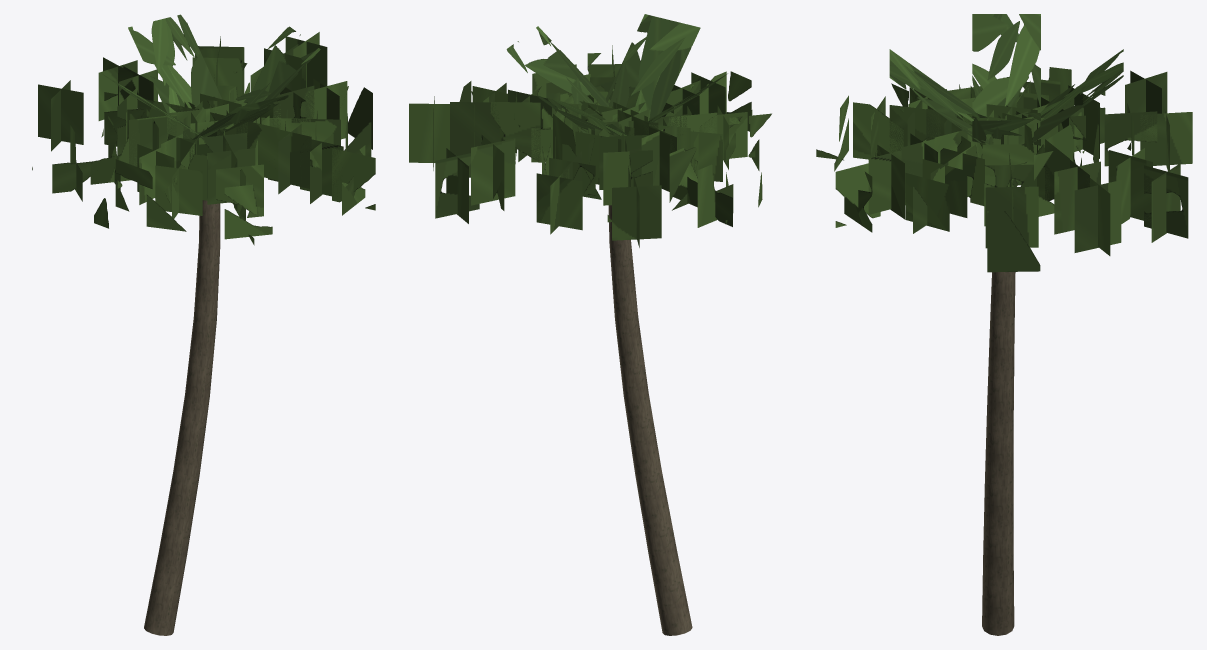
File: nature.tree.palm.glb
3 views of the same model, side by side, from view 1: azimuth 30°, elevation 25°; view 2: azimuth 150°, elevation 25°; view 3: azimuth 270°, elevation 25° (orthographic). The views are drawn at different scales.
Parts seen in each view (by area): view 1: nature.tree.palm; view 2: nature.tree.palm; view 3: nature.tree.palm.
Boxes of the visible parts, x1,y1,x2,y2 form: nature.tree.palm: (32, 14, 375, 635); nature.tree.palm: (409, 14, 771, 635); nature.tree.palm: (816, 14, 1192, 635).
Bounding box in the file's own units: 6.81 × 10.54 × 6.05.
Materials: 3 (3 with a texture image).
